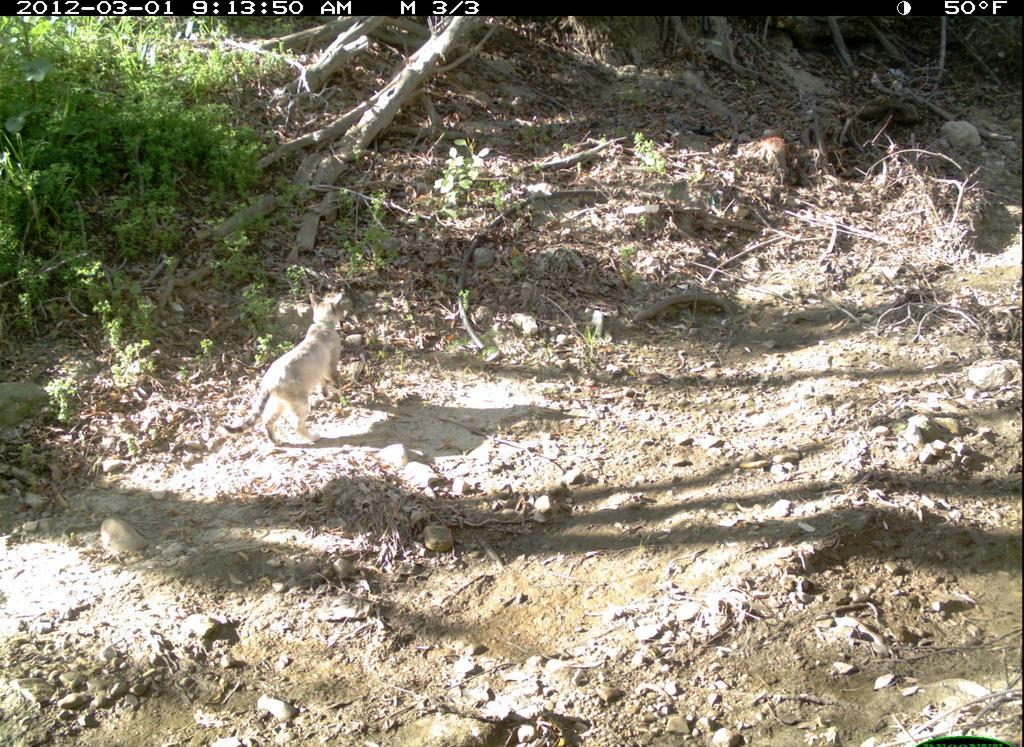cat: (228, 290, 355, 451)
